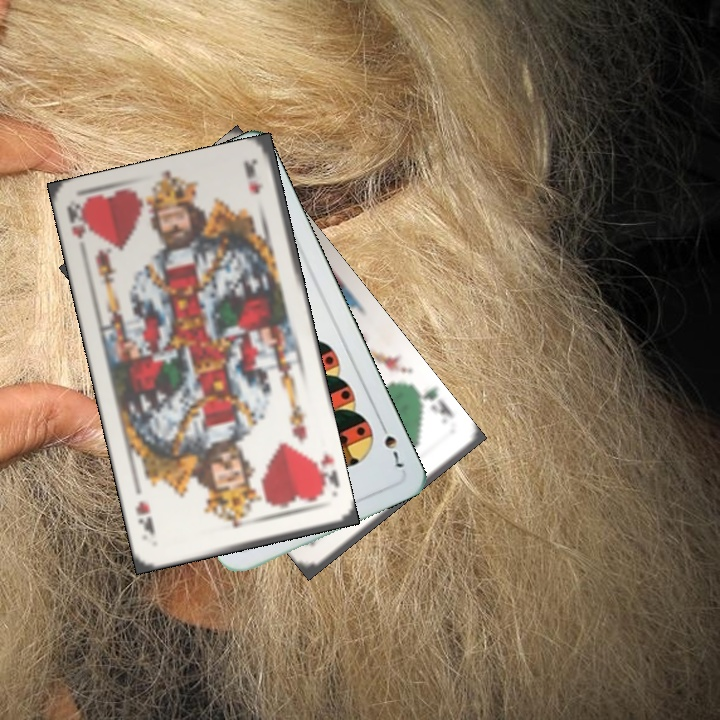GK: (411, 384, 457, 421)
HK: (308, 449, 342, 499), (63, 201, 93, 242)
S7: (375, 417, 406, 471)
